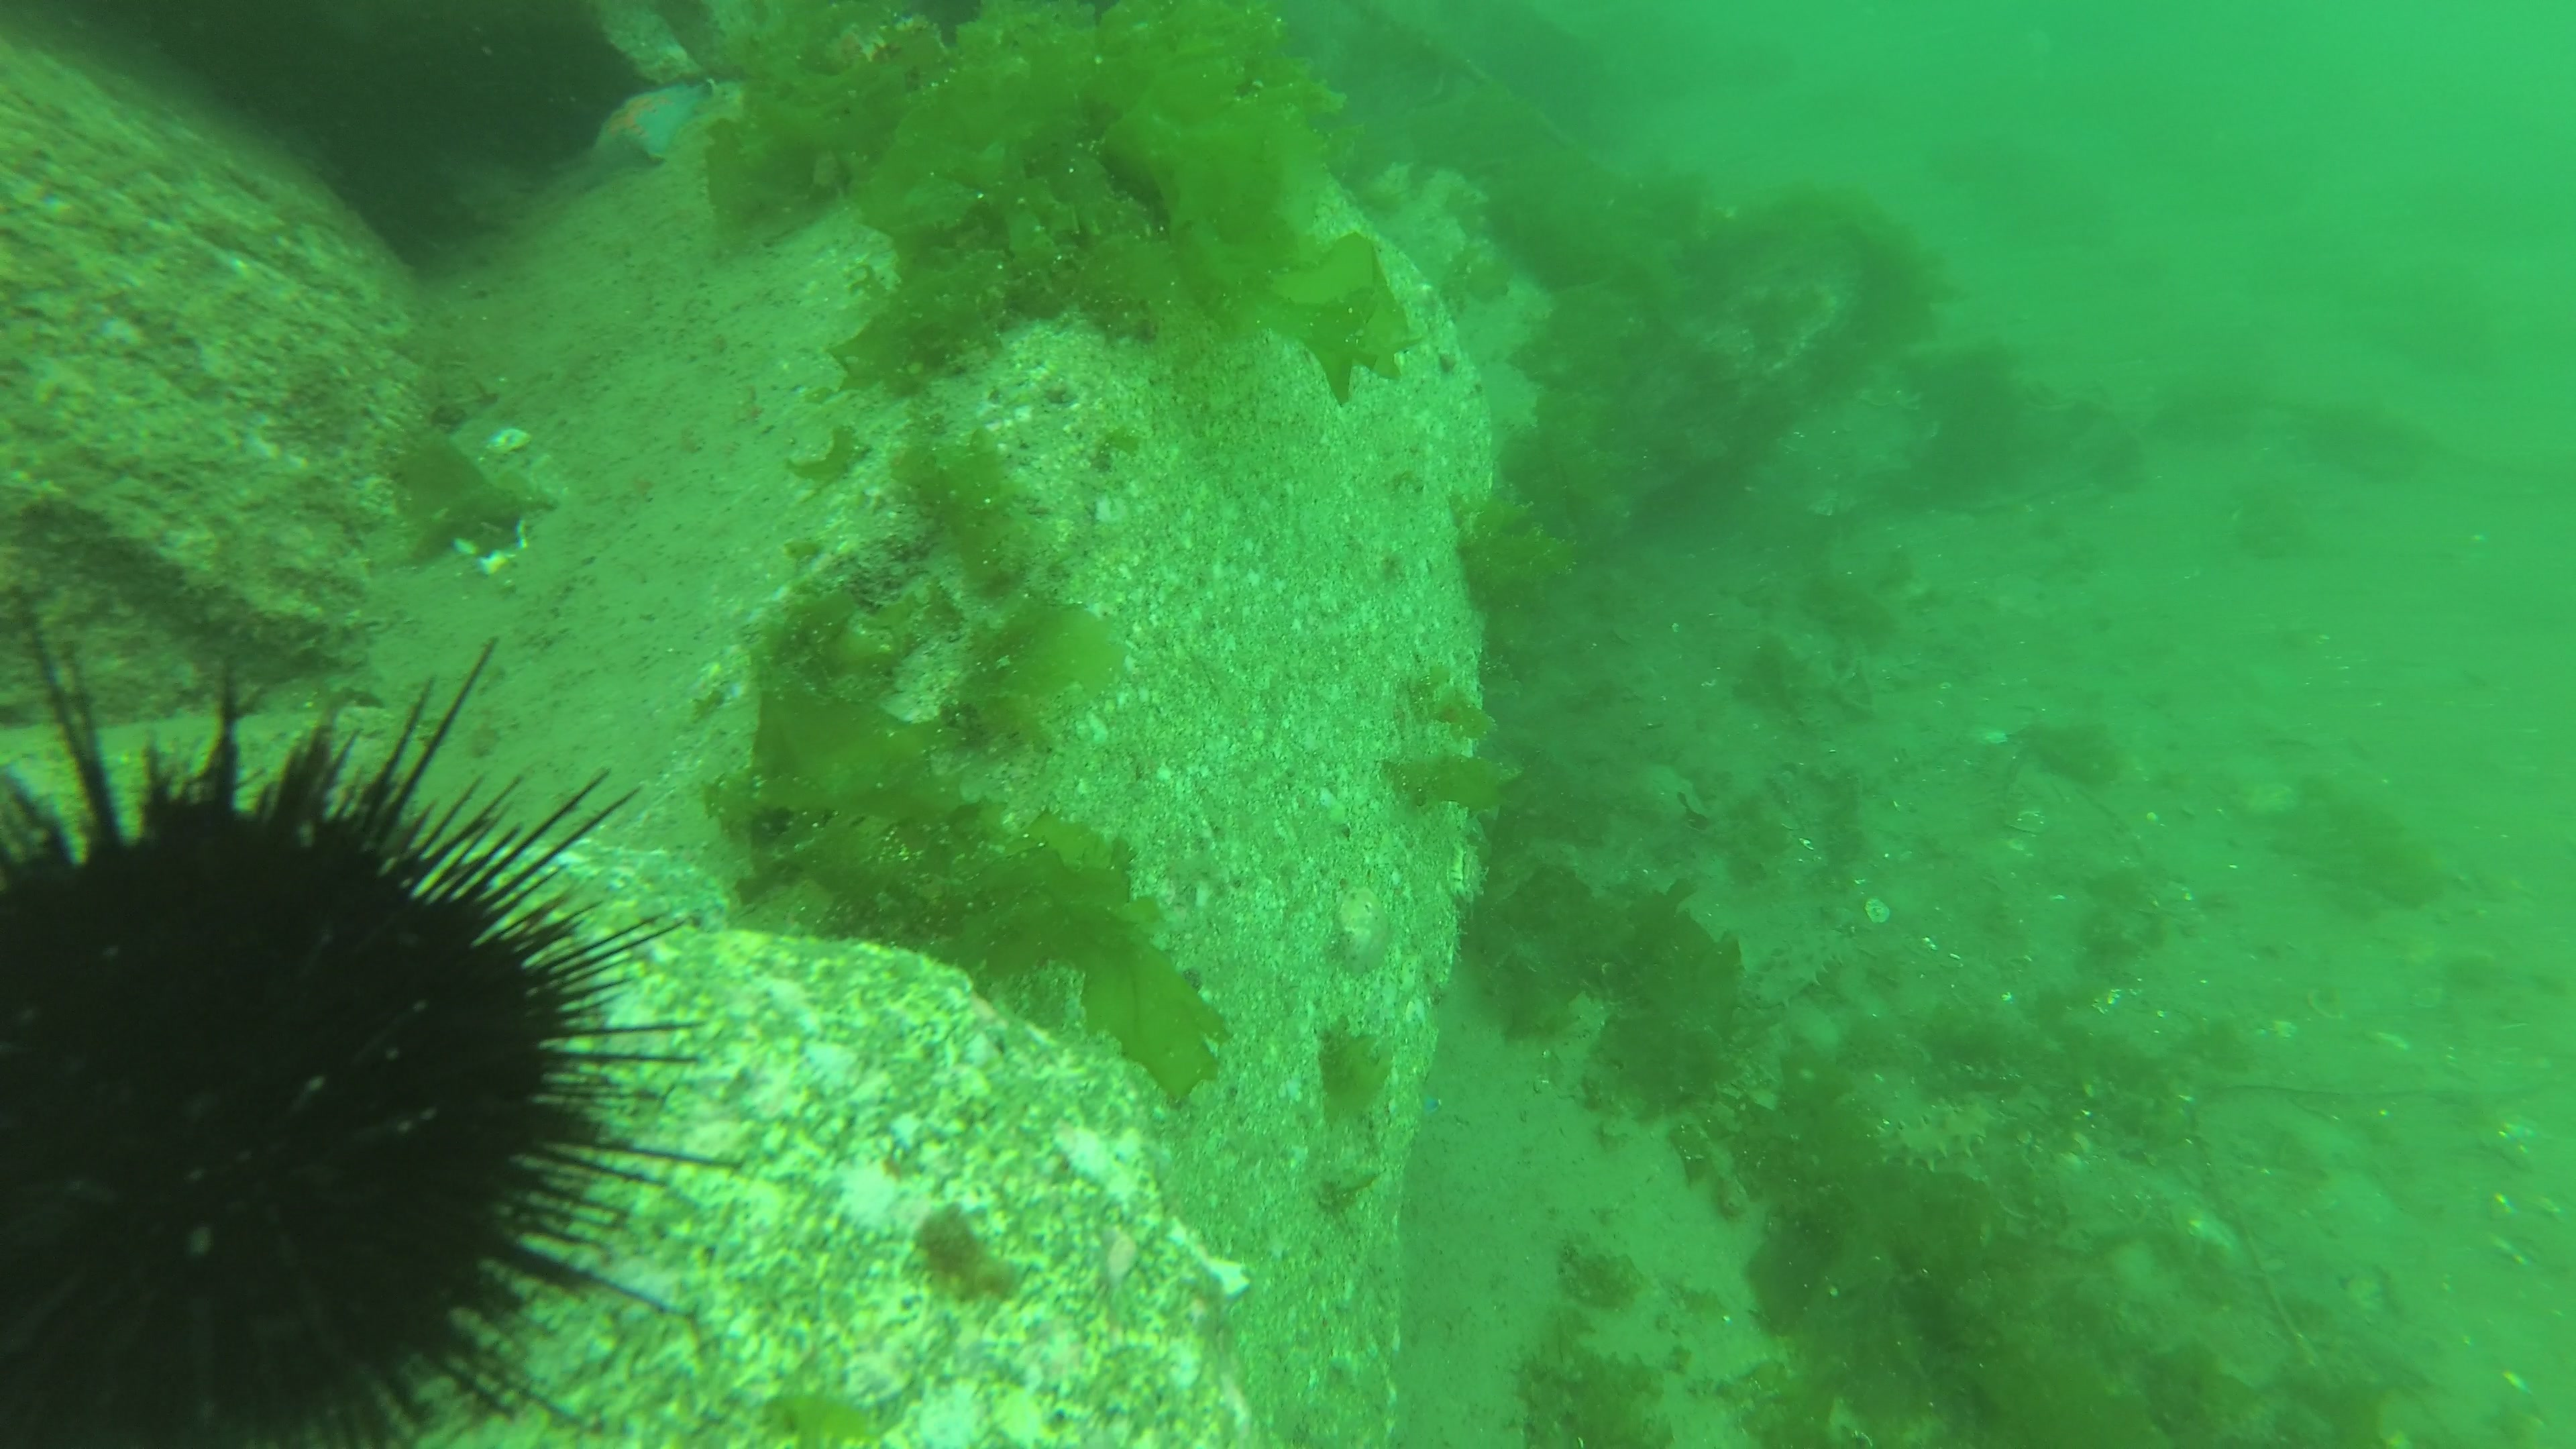echinus: (7, 591, 741, 1449)
holothurian: (1865, 1092, 2003, 1177), (1746, 918, 1867, 1012)
starfish: (577, 67, 709, 188)
